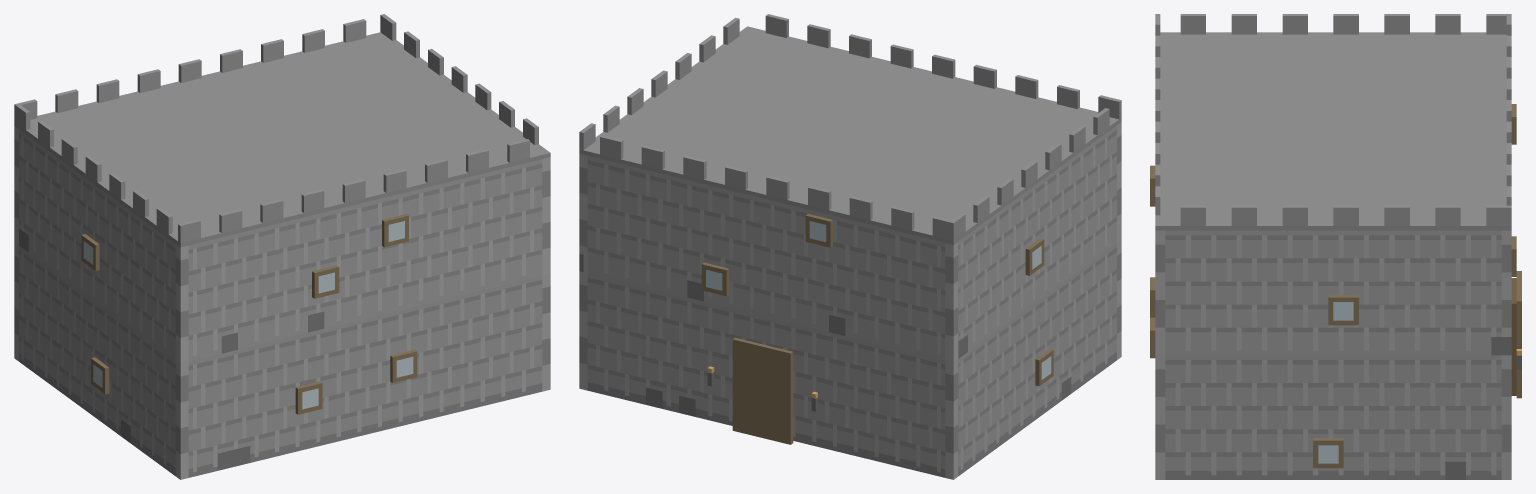
File: cuartel_guardia_comunal_04.glb
3 renders of one model, left to right at view 1: azimuth 30°, elevation 25°; view 2: azimuth 150°, elevation 25°; view 3: azimuth 270°, elevation 25°, orthographic. The views are drawn at different scales.
Parts seen in each view (by area): view 1: cuartel_guardia_comunal_04; view 2: cuartel_guardia_comunal_04; view 3: cuartel_guardia_comunal_04.
Part boxes in pixels (box(x1,y1,x2,y2)): cuartel_guardia_comunal_04: box(14, 14, 550, 479); cuartel_guardia_comunal_04: box(579, 14, 1121, 479); cuartel_guardia_comunal_04: box(1150, 14, 1521, 479).
Bounding box in the file's own units: 9.2 × 5.9 × 7.3.
